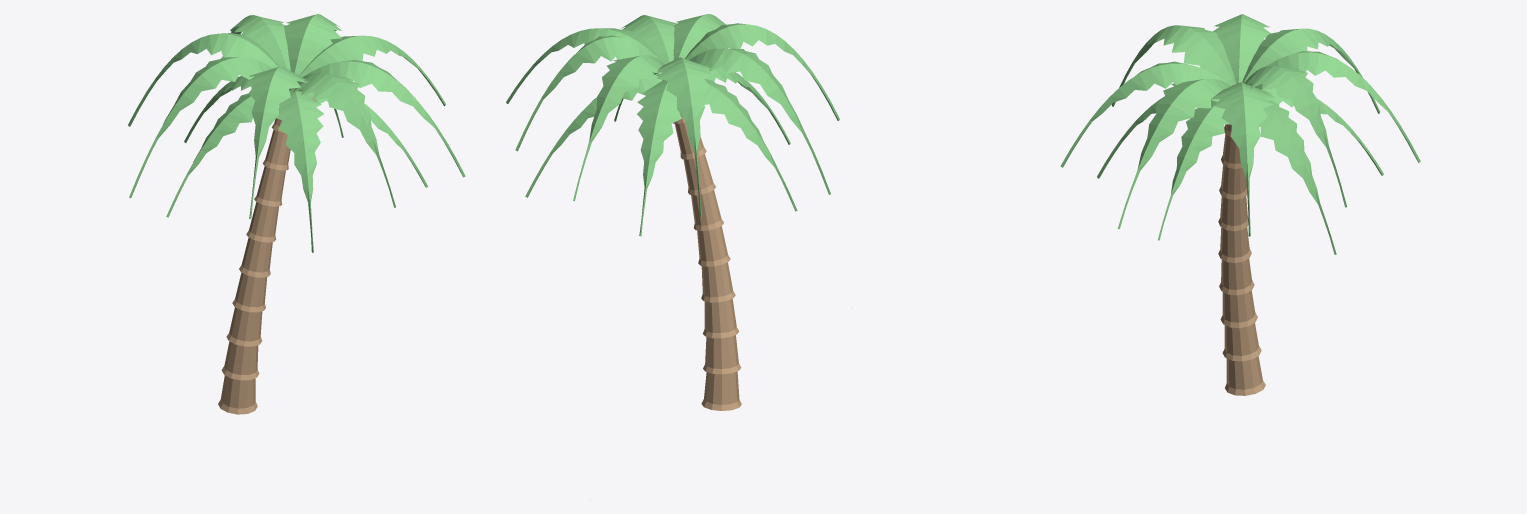
The model's file is SandPalm.glb.
3 renders of one model, left to right at view 1: azimuth 30°, elevation 25°; view 2: azimuth 150°, elevation 25°; view 3: azimuth 270°, elevation 25°, orthographic. The views are drawn at different scales.
Visible parts, largest first — view 1: Frond, Trunk; view 2: Frond, Trunk; view 3: Frond, Trunk.
Part boxes in pixels (x1,y1,x2,y2): Frond: (128,14,465,252); Trunk: (218,118,290,414); Frond: (506,14,839,236); Trunk: (590,114,852,499); Frond: (1060,14,1420,254); Trunk: (1218,124,1265,395).
Size of the model in its own units: 28.04 by 21.17 by 28.04.
